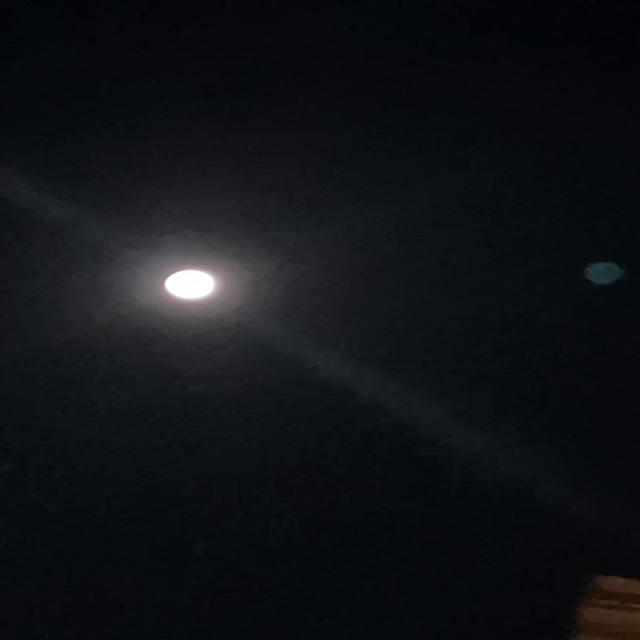moon: (136, 264, 228, 310)
